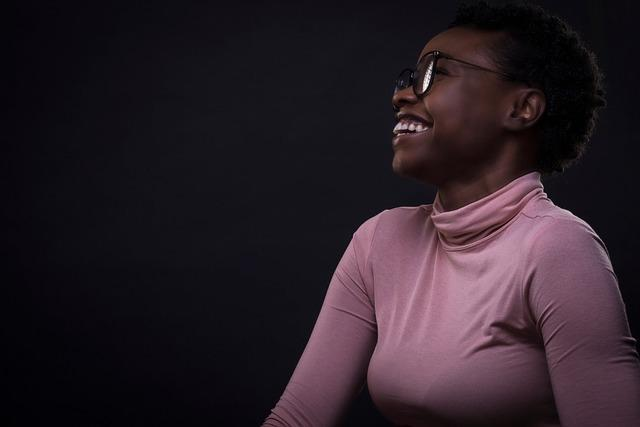Non_Gorille: (211, 17, 640, 427)
